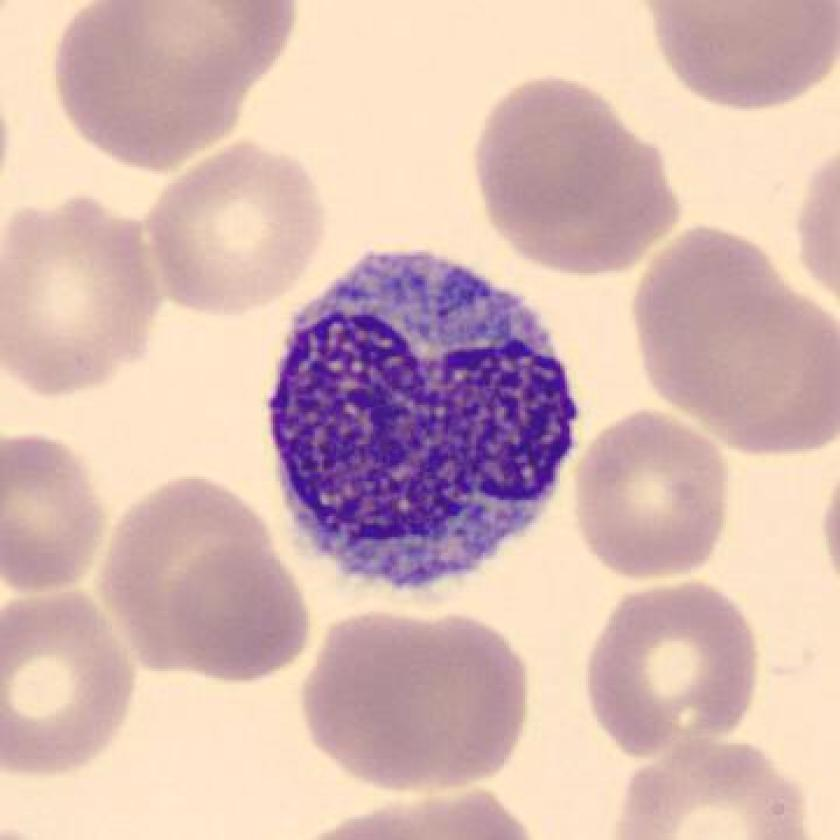monocyte: (246, 235, 603, 617)
